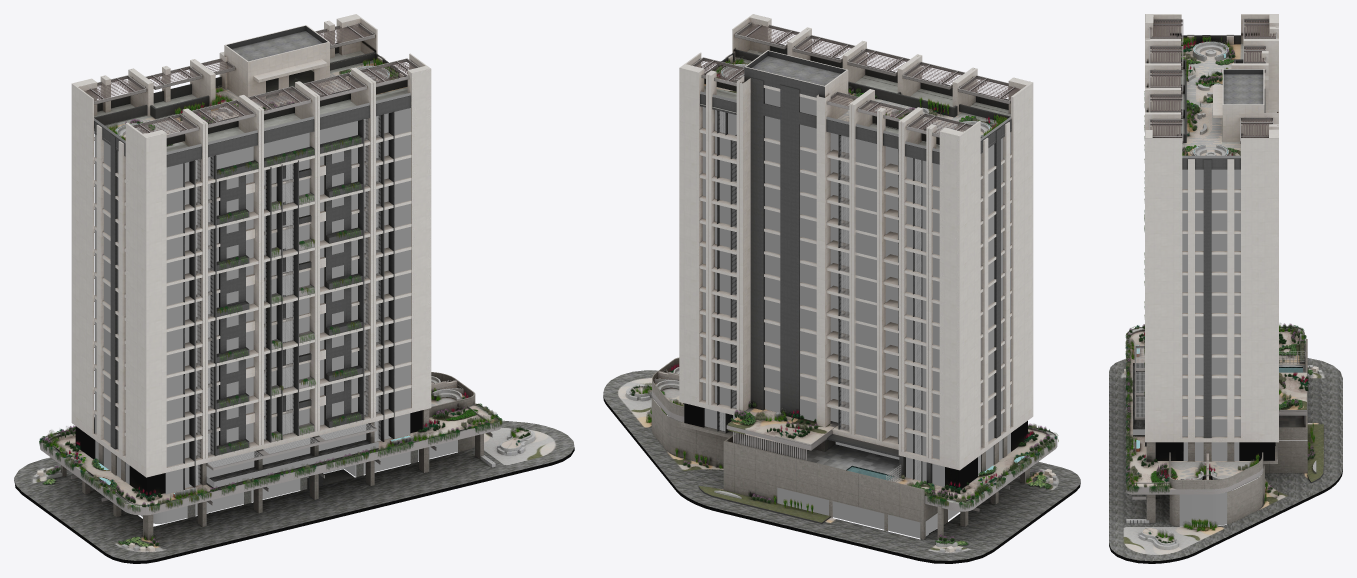
The model's file is digiwyze_building.glb.
The picture shows the model from 3 angles, left to right: view 1: azimuth 30°, elevation 25°; view 2: azimuth 150°, elevation 25°; view 3: azimuth 270°, elevation 25°; orthographic projection. The views are drawn at different scales.
Visible parts, largest first — view 1: Object335_primitive44, Object335_primitive47, Object335_primitive48, Object335_primitive45, Object335_primitive0.759, Object335_primitive46, Object336_primitive0, Object335_primitive0.329, Object335_primitive0.534, Object335_primitive43, Object335_primitive15, Object335_primitive2 (+4 smaller); view 2: Object335_primitive44, Object335_primitive48, Object335_primitive47, Object335_primitive45, Object335_primitive0.759, Object335_primitive0.769, Object335_primitive46, Object335_primitive0.534, Object335_primitive0.771, Object335_primitive43, Object335_primitive0.163, Object335_primitive0.789 (+7 smaller); view 3: Object335_primitive44, Object335_primitive45, Object335_primitive0.759, Object335_primitive48, Object335_primitive47, Object335_primitive0.534, Object335_primitive0.771, Object335_primitive0.770, Object335_primitive2, Object335_primitive1, Object335_primitive0.789, Object335_primitive0.163 (+20 smaller).
Part boxes in pixels (left/top/right/bottom): Object335_primitive44: left=71, top=14, right=431, bottom=477; Object335_primitive47: left=94, top=52, right=411, bottom=489; Object335_primitive48: left=94, top=92, right=457, bottom=523; Object335_primitive45: left=85, top=23, right=418, bottom=167; Object335_primitive0.759: left=14, top=420, right=574, bottom=560; Object335_primitive46: left=195, top=115, right=380, bottom=485; Object336_primitive0: left=218, top=136, right=361, bottom=454; Object335_primitive0.329: left=145, top=422, right=499, bottom=515; Object335_primitive0.534: left=50, top=393, right=483, bottom=504; Object335_primitive43: left=14, top=448, right=574, bottom=563; Object335_primitive15: left=41, top=403, right=502, bottom=512; Object335_primitive2: left=49, top=69, right=520, bottom=540; Object335_primitive44: left=679, top=14, right=1033, bottom=470; Object335_primitive48: left=700, top=88, right=1010, bottom=538; Object335_primitive47: left=699, top=61, right=1011, bottom=480; Object335_primitive45: left=692, top=22, right=1020, bottom=164; Object335_primitive0.759: left=603, top=370, right=1080, bottom=560; Object335_primitive0.769: left=723, top=441, right=923, bottom=539; Object335_primitive46: left=719, top=111, right=920, bottom=480; Object335_primitive0.534: left=655, top=383, right=1048, bottom=500; Object335_primitive0.771: left=651, top=395, right=727, bottom=468; Object335_primitive43: left=603, top=395, right=1080, bottom=563; Object335_primitive0.163: left=728, top=407, right=838, bottom=444; Object335_primitive0.789: left=699, top=486, right=830, bottom=522; Object335_primitive44: left=1145, top=14, right=1278, bottom=442; Object335_primitive45: left=1146, top=18, right=1276, bottom=169; Object335_primitive0.759: left=1109, top=358, right=1342, bottom=561; Object335_primitive48: left=1133, top=155, right=1240, bottom=526; Object335_primitive47: left=1145, top=35, right=1275, bottom=446; Object335_primitive0.534: left=1129, top=331, right=1305, bottom=489; Object335_primitive0.771: left=1227, top=464, right=1264, bottom=524; Object335_primitive0.770: left=1265, top=441, right=1307, bottom=473; Object335_primitive2: left=1125, top=39, right=1305, bottom=540; Object335_primitive1: left=1126, top=40, right=1303, bottom=540; Object335_primitive0.789: left=1307, top=424, right=1323, bottom=481; Object335_primitive0.163: left=1279, top=372, right=1306, bottom=409.
Bounding box in the file's own units: 74.29 × 63.18 × 35.95.
Materials: 51 (29 with a texture image).
